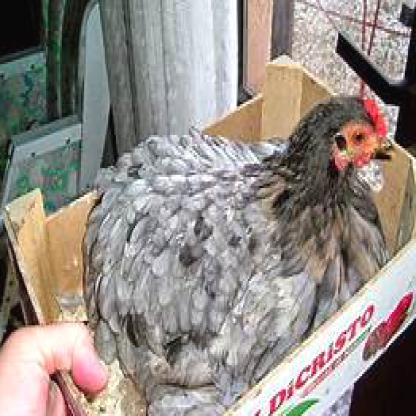chicken: (83, 95, 397, 398)
